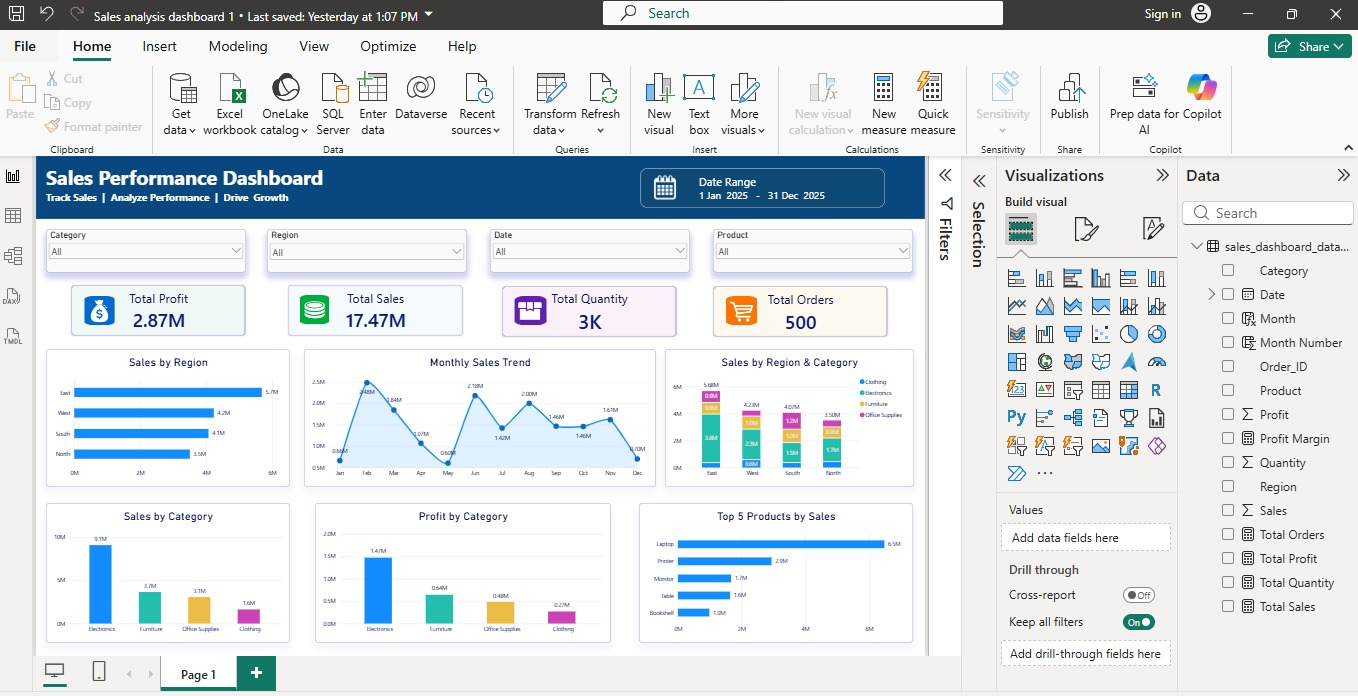

The dashboard page shown, as its layout file describes it:
{"tool":"powerbi","page":{"name":"Page 1","canvas":[1920,1080],"ordinal":0},"visuals":[{"type":"cardVisual","fields":{"Data":["sales_dashboard_dataset.Total Sales"]},"box":[544.3,278.6,377,110],"z":0},{"type":"cardVisual","fields":{"Data":["sales_dashboard_dataset.Total Profit"]},"box":[75.6,278.6,377,110],"z":1000},{"type":"cardVisual","fields":{"Data":["sales_dashboard_dataset.Total Quantity"]},"box":[1006.6,280.8,377,110],"z":2000},{"type":"cardVisual","fields":{"Data":["sales_dashboard_dataset.Total Orders"]},"box":[1462.3,280.8,377,110],"z":3000},{"type":"clusteredBarChart","title":"Sales by Region","fields":{"Category":["sales_dashboard_dataset.Region"],"Y":["sales_dashboard_dataset.Total Sales"]},"box":[21.6,416.9,527,298.1],"z":4000},{"type":"clusteredColumnChart","title":"Profit by Category","fields":{"Category":["sales_dashboard_dataset.Category"],"Y":["sales_dashboard_dataset.Total Profit"]},"box":[602.6,749.5,639.4,302.4],"z":5000},{"type":"clusteredColumnChart","title":"Sales by Category","fields":{"Category":["sales_dashboard_dataset.Category"],"Y":["sales_dashboard_dataset.Total Sales"]},"box":[21.6,749.5,527,302.4],"z":6000},{"type":"lineChart","title":"Monthly Sales Trend","fields":{"Category":["sales_dashboard_dataset.Month"],"Y":["sales_dashboard_dataset.Total Sales"]},"box":[578.9,416.9,760.3,298.1],"z":7000},{"type":"slicer","fields":{"Values":["sales_dashboard_dataset.Region"]},"box":[499,157.7,432,94],"z":8000},{"type":"slicer","fields":{"Values":["sales_dashboard_dataset.Category"]},"box":[21.6,157.7,432,94],"z":9000},{"type":"slicer","fields":{"Values":["sales_dashboard_dataset.Date"]},"box":[980.6,157.7,432,94],"z":10000},{"type":"slicer","fields":{"Values":["sales_dashboard_dataset.Product"]},"box":[1462.3,157.7,432,94],"z":11000},{"type":"clusteredBarChart","title":"Top 5 Products by Sales","fields":{"Category":["sales_dashboard_dataset.Product"],"Y":["sales_dashboard_dataset.Total Sales"]},"box":[1302.5,749.5,591.8,302.4],"z":12000},{"type":"shape","box":[0,0,1920.2,136.1],"z":13000},{"type":"textbox","box":[21.6,17.3,682.6,101.5],"z":14000},{"type":"shape","box":[1304.6,25.9,529.2,86.4],"z":15000},{"type":"textbox","box":[1432.1,38.9,337,71.3],"z":16000},{"type":"image","box":[1304.6,38.9,108,58.3],"z":17000},{"type":"columnChart","title":"Sales by Region & Category","fields":{"Category":["sales_dashboard_dataset.Region"],"Series":["sales_dashboard_dataset.Category"],"Y":["sales_dashboard_dataset.Total Sales"]},"box":[1358.6,416.9,537.8,298.1],"z":18000},{"type":"image","box":[555.1,300.2,93,63],"z":18001},{"type":"image","box":[90.7,302.4,93,63],"z":18002},{"type":"image","box":[1021.7,302.4,93,63],"z":18003},{"type":"image","box":[1477.4,302.4,93,63],"z":18004}]}

Visuals, with their boxes on the page's 1920x1080 design canvas (x1, y1, x2, y2). These are canvas units, not pixel positions in the 1358x696 screenshot, which may show the page scaled, cropped or inside an application window:
cardVisual - sales_dashboard_dataset.Total Sales: [left=544, top=279, right=921, bottom=389]
cardVisual - sales_dashboard_dataset.Total Profit: [left=76, top=279, right=453, bottom=389]
cardVisual - sales_dashboard_dataset.Total Quantity: [left=1007, top=281, right=1384, bottom=391]
cardVisual - sales_dashboard_dataset.Total Orders: [left=1462, top=281, right=1839, bottom=391]
"Sales by Region" clusteredBarChart: [left=22, top=417, right=549, bottom=715]
"Profit by Category" clusteredColumnChart: [left=603, top=750, right=1242, bottom=1052]
"Sales by Category" clusteredColumnChart: [left=22, top=750, right=549, bottom=1052]
"Monthly Sales Trend" lineChart: [left=579, top=417, right=1339, bottom=715]
slicer - sales_dashboard_dataset.Region: [left=499, top=158, right=931, bottom=252]
slicer - sales_dashboard_dataset.Category: [left=22, top=158, right=454, bottom=252]
slicer - sales_dashboard_dataset.Date: [left=981, top=158, right=1413, bottom=252]
slicer - sales_dashboard_dataset.Product: [left=1462, top=158, right=1894, bottom=252]
"Top 5 Products by Sales" clusteredBarChart: [left=1302, top=750, right=1894, bottom=1052]
shape: [left=0, top=0, right=1920, bottom=136]
textbox: [left=22, top=17, right=704, bottom=119]
shape: [left=1305, top=26, right=1834, bottom=112]
textbox: [left=1432, top=39, right=1769, bottom=110]
image: [left=1305, top=39, right=1413, bottom=97]
"Sales by Region & Category" columnChart: [left=1359, top=417, right=1896, bottom=715]
image: [left=555, top=300, right=648, bottom=363]
image: [left=91, top=302, right=184, bottom=365]
image: [left=1022, top=302, right=1115, bottom=365]
image: [left=1477, top=302, right=1570, bottom=365]
